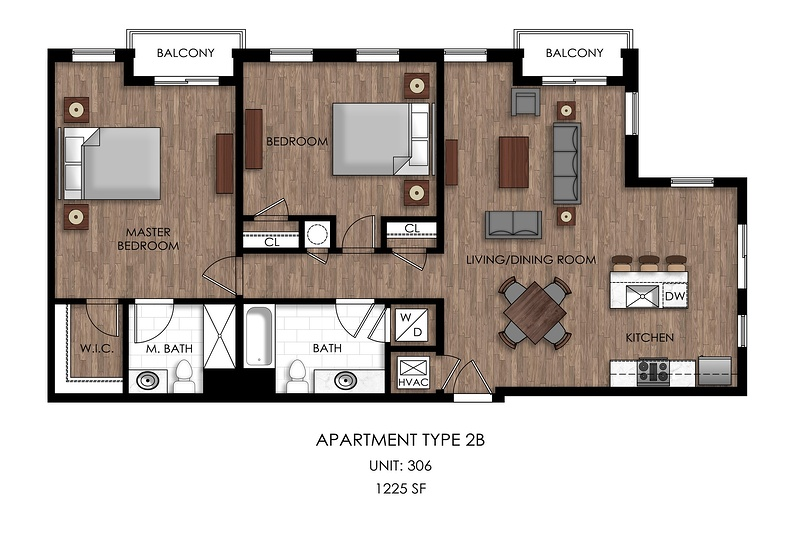room: (49, 76, 244, 303), (234, 47, 444, 252), (243, 297, 391, 401), (123, 297, 202, 402), (513, 28, 633, 86)
window: (737, 224, 748, 289), (625, 91, 640, 134), (155, 75, 219, 85), (73, 47, 116, 61), (270, 47, 313, 61), (356, 47, 399, 61), (443, 46, 486, 60), (671, 176, 715, 187), (737, 314, 748, 346)
